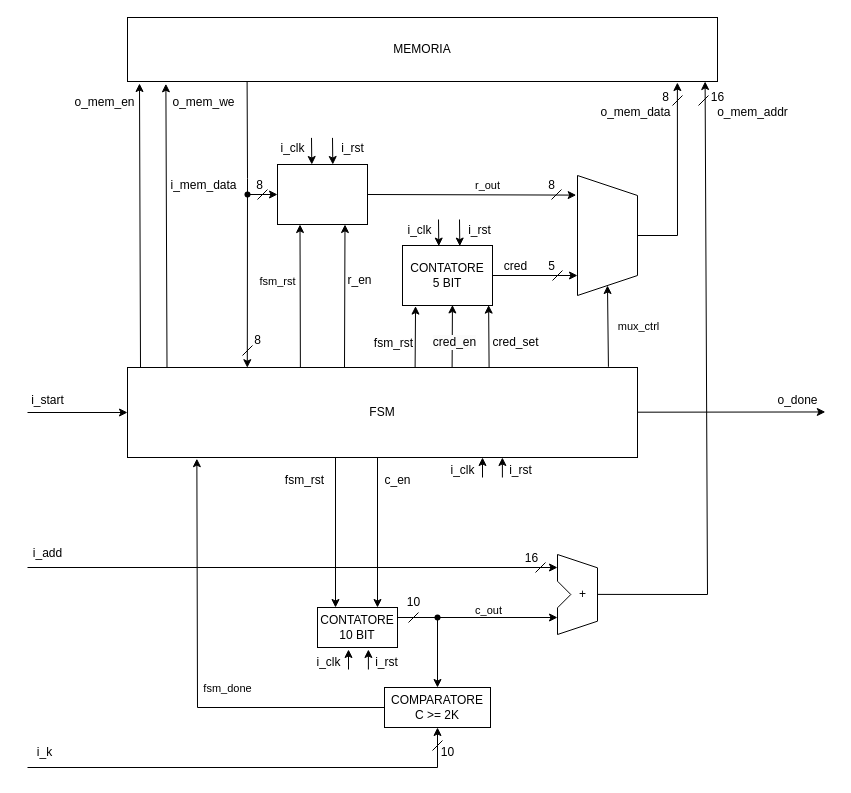
The diagram is 851 pixels wide and 793 high, and some of its shapes have lost their labels. Each missing label, with the box of its shape:
MUX: (576, 174, 638, 296)
REGISTRO 8 BIT: (276, 164, 368, 224)
